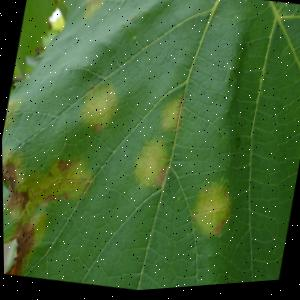Folha: (0, 0, 300, 300)
Fungo: (2, 140, 96, 287), (127, 88, 185, 196), (185, 179, 236, 245), (75, 75, 125, 138), (128, 134, 173, 194), (7, 217, 38, 278), (155, 94, 183, 136), (80, 0, 105, 24), (151, 165, 167, 190), (55, 157, 71, 174), (91, 123, 102, 133)
